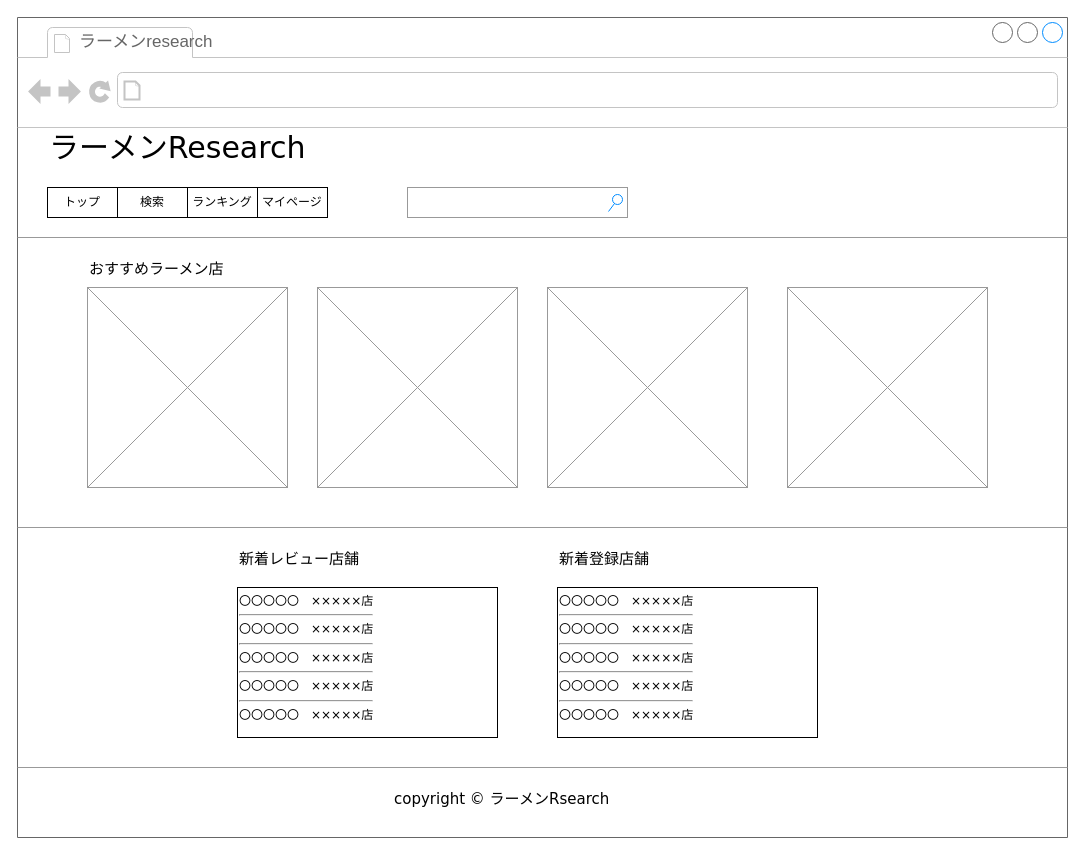
The diagram is 1085 pixels wide and 855 high, and some of its shapes have lost their labels. The box of each missing label's shape, as (x1, y1, x2, y2) in pixels:
https://www.ramen_research.jp: (146, 76, 398, 104)
Search: (406, 186, 628, 218)
